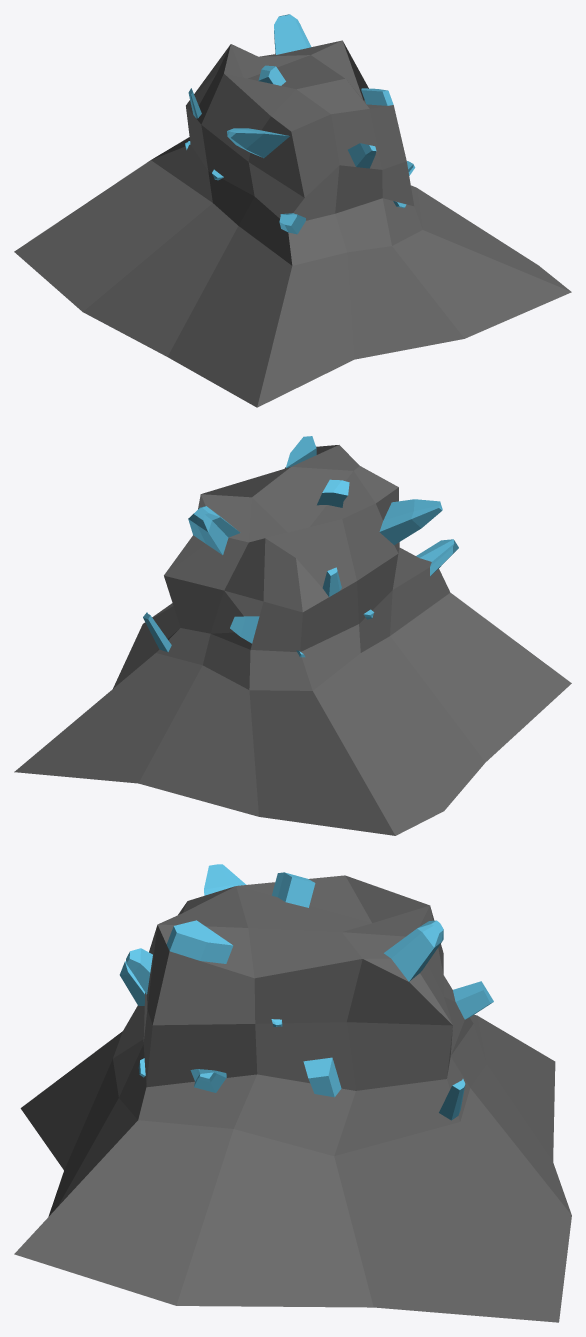
Rendered from Ore2.fbx.
3 views of the same model, one above another, from view 1: azimuth 30°, elevation 25°; view 2: azimuth 150°, elevation 25°; view 3: azimuth 270°, elevation 25° (orthographic). The views are drawn at different scales.
Parts seen in each view (by area): view 1: Cube; view 2: Cube; view 3: Cube.
Part boxes in pixels (<box>): Cube: <box>14,14,571,407</box>; Cube: <box>14,436,571,835</box>; Cube: <box>14,864,571,1322</box>.
Size of the model in its own units: 703 by 726 by 449.
